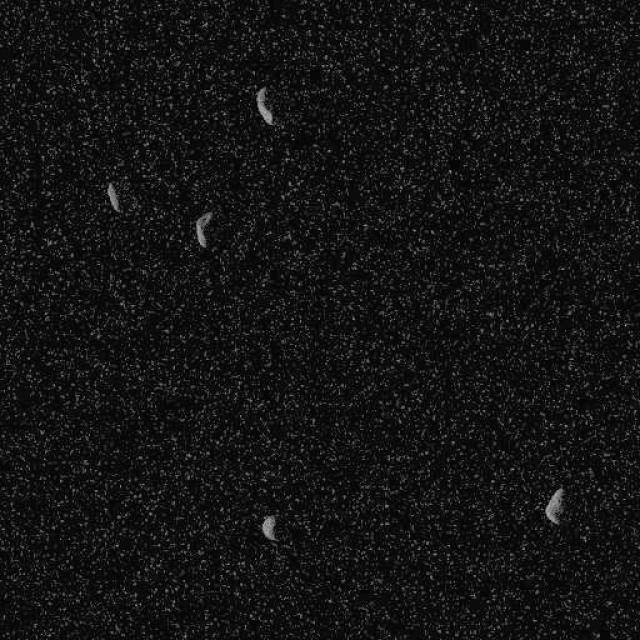D2: (255, 85, 275, 126), (544, 486, 564, 525), (194, 210, 214, 248), (105, 182, 121, 212), (260, 514, 276, 541)
